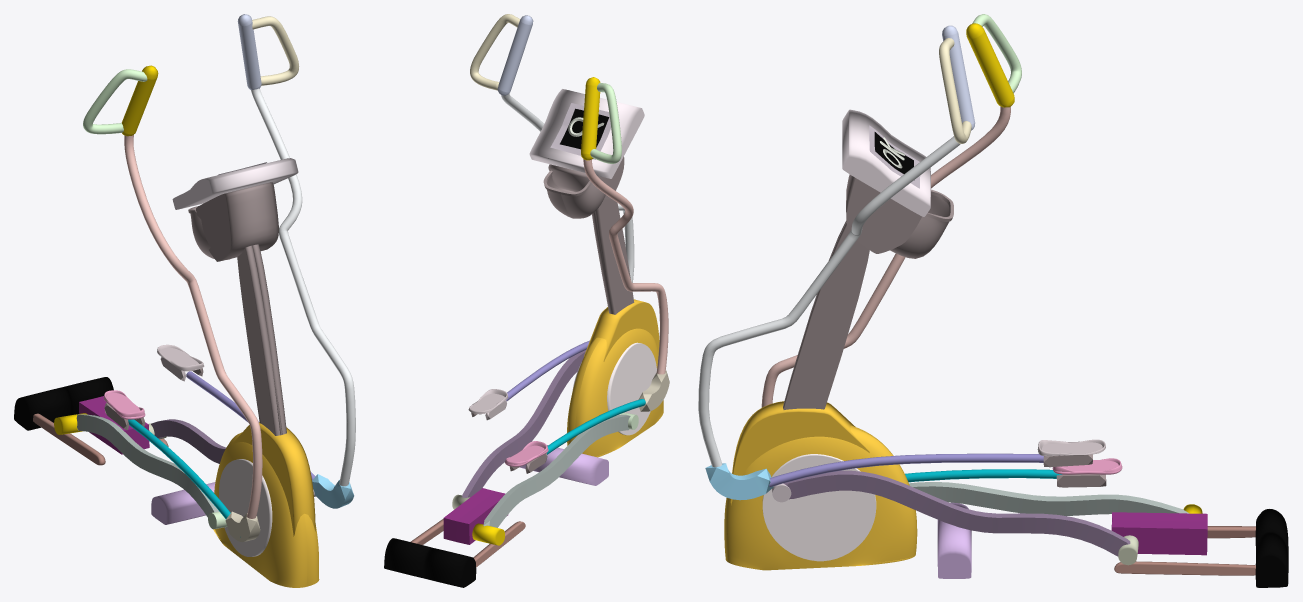
The model's file is Elliptical.glb.
3 views of the same model, side by side, from view 1: azimuth 30°, elevation 25°; view 2: azimuth 150°, elevation 25°; view 3: azimuth 270°, elevation 25° (orthographic). The views are drawn at different scales.
Parts seen in each view (by area): view 1: c0001.89831, p0011.67014, s0031.24915, s0032.43562, p0003.82084, p0005.60340.Mirror, s0017.75091, p0004.45651, p0012.83705, p0006.35799, p0003.82084.Mirror, s0018.86243 (+19 smaller); view 2: c0001.89831, p0012.83705, s0017.75091, s0018.86243, p0005.60340.Mirror, s0031.24915, p0003.82084, p0006.35799, p0004.45651, p0006.35799.Mirror, s0036.04524, s0035.24666 (+21 smaller); view 3: c0001.89831.Mirror, s0018.86243, p0005.60340, p0003.82084.Mirror, s0032.43562, s0017.75091, p0012.83705, p0004.45651.Mirror, p0011.67014, s0031.24915, p0000.39488.Mirror, s0019.39056 (+12 smaller).
Part boxes in pixels (bbox=[...]): c0001.89831: bbox=[214, 432, 307, 587]; p0011.67014: bbox=[196, 182, 278, 261]; s0031.24915: bbox=[124, 135, 262, 518]; s0032.43562: bbox=[251, 88, 355, 486]; p0003.82084: bbox=[237, 245, 282, 435]; p0005.60340.Mirror: bbox=[219, 459, 272, 556]; s0017.75091: bbox=[76, 414, 219, 517]; p0004.45651: bbox=[232, 424, 315, 534]; p0012.83705: bbox=[172, 158, 298, 209]; p0006.35799: bbox=[14, 387, 71, 430]; p0003.82084.Mirror: bbox=[252, 244, 286, 435]; s0018.86243: bbox=[151, 419, 226, 463]; c0001.89831: bbox=[574, 328, 663, 457]; p0012.83705: bbox=[529, 89, 644, 178]; s0017.75091: bbox=[483, 414, 630, 527]; s0018.86243: bbox=[462, 350, 586, 497]; p0005.60340.Mirror: bbox=[607, 342, 656, 435]; s0031.24915: bbox=[583, 159, 668, 374]; p0003.82084: bbox=[595, 199, 634, 314]; p0006.35799: bbox=[423, 548, 476, 587]; p0004.45651: bbox=[602, 300, 659, 361]; p0006.35799.Mirror: bbox=[384, 538, 432, 578]; s0036.04524: bbox=[581, 77, 600, 160]; s0035.24666: bbox=[497, 15, 533, 95]; c0001.89831.Mirror: bbox=[724, 428, 917, 570]; s0018.86243: bbox=[783, 470, 1130, 556]; p0005.60340: bbox=[762, 454, 876, 561]; p0003.82084.Mirror: bbox=[783, 223, 869, 409]; s0032.43562: bbox=[698, 136, 960, 467]; s0017.75091: bbox=[909, 482, 1189, 516]; p0012.83705: bbox=[842, 109, 930, 216]; p0004.45651.Mirror: bbox=[731, 403, 869, 505]; p0011.67014: bbox=[846, 174, 921, 253]; s0031.24915: bbox=[761, 106, 1010, 407]; p0000.39488.Mirror: bbox=[1112, 520, 1207, 555]; s0019.39056: bbox=[769, 453, 1043, 486].
Bounding box in the file's own units: 7.1 × 17.78 × 17.02.
